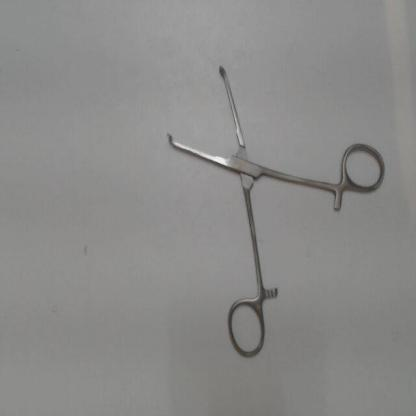Allis Tissue Forceps: (159, 53, 392, 368)
